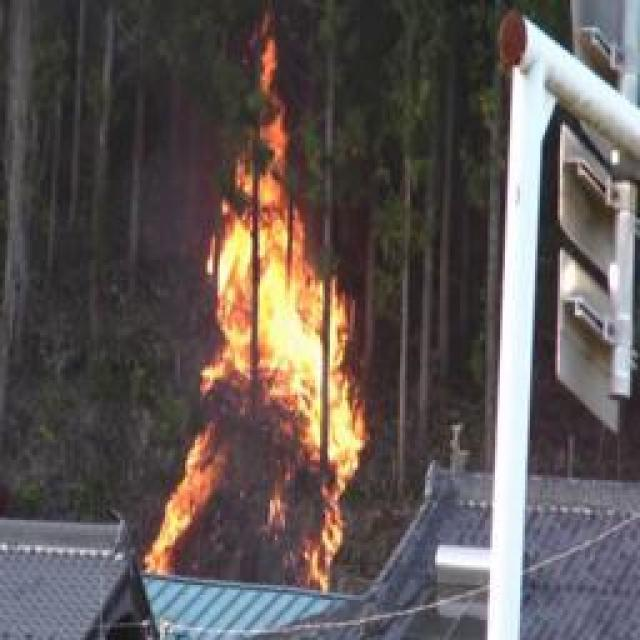Fire: (156, 51, 362, 590)
